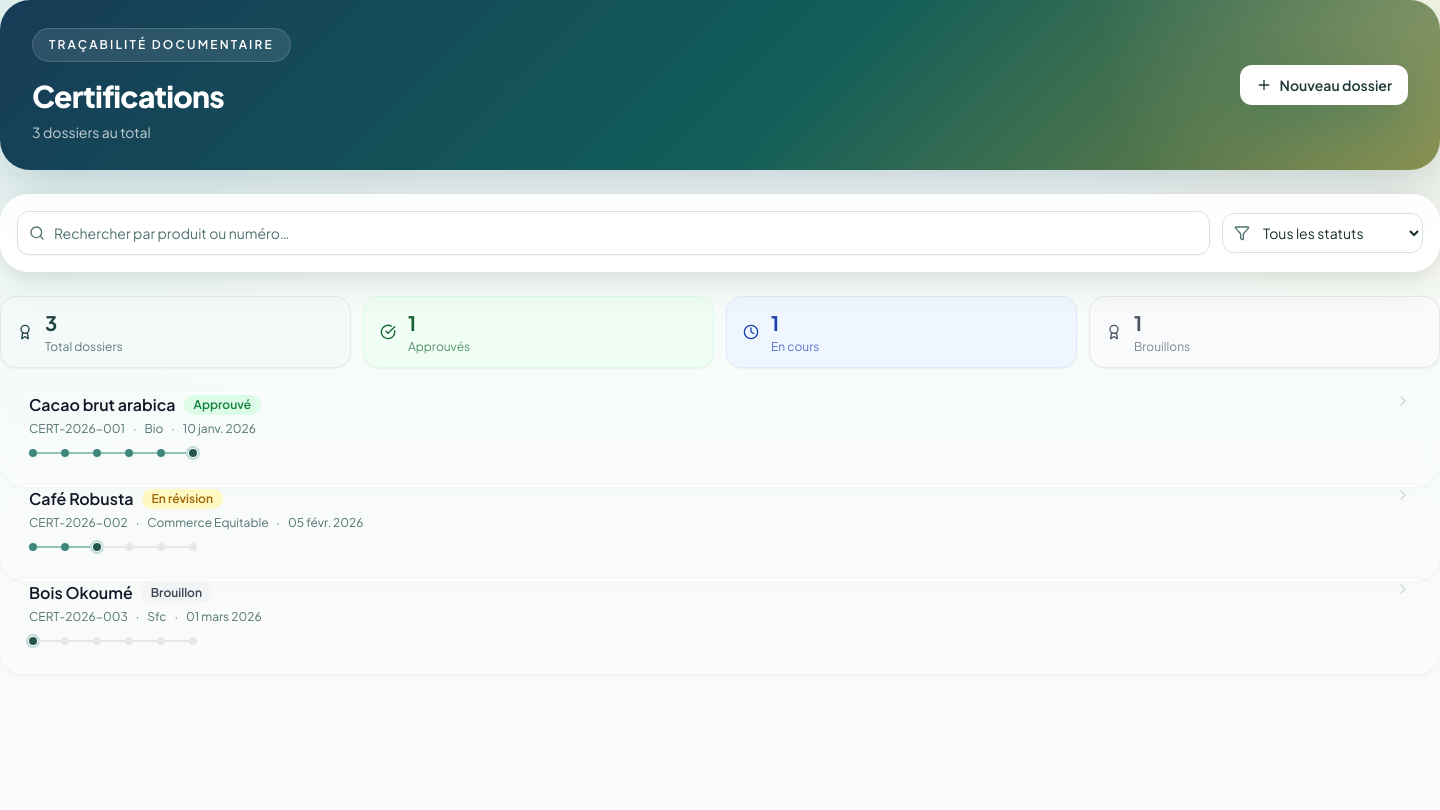
Test case: CertificationListPage — search filter › filters by dossier number
Expected: the text "CERT-2026-001" is shown, [29, 421, 125, 437]
Type "CERT-2026-003" into the field with placeholder "Rechercher par produit ou numéro…". click: (614, 233)
box: [17, 211, 1210, 255]
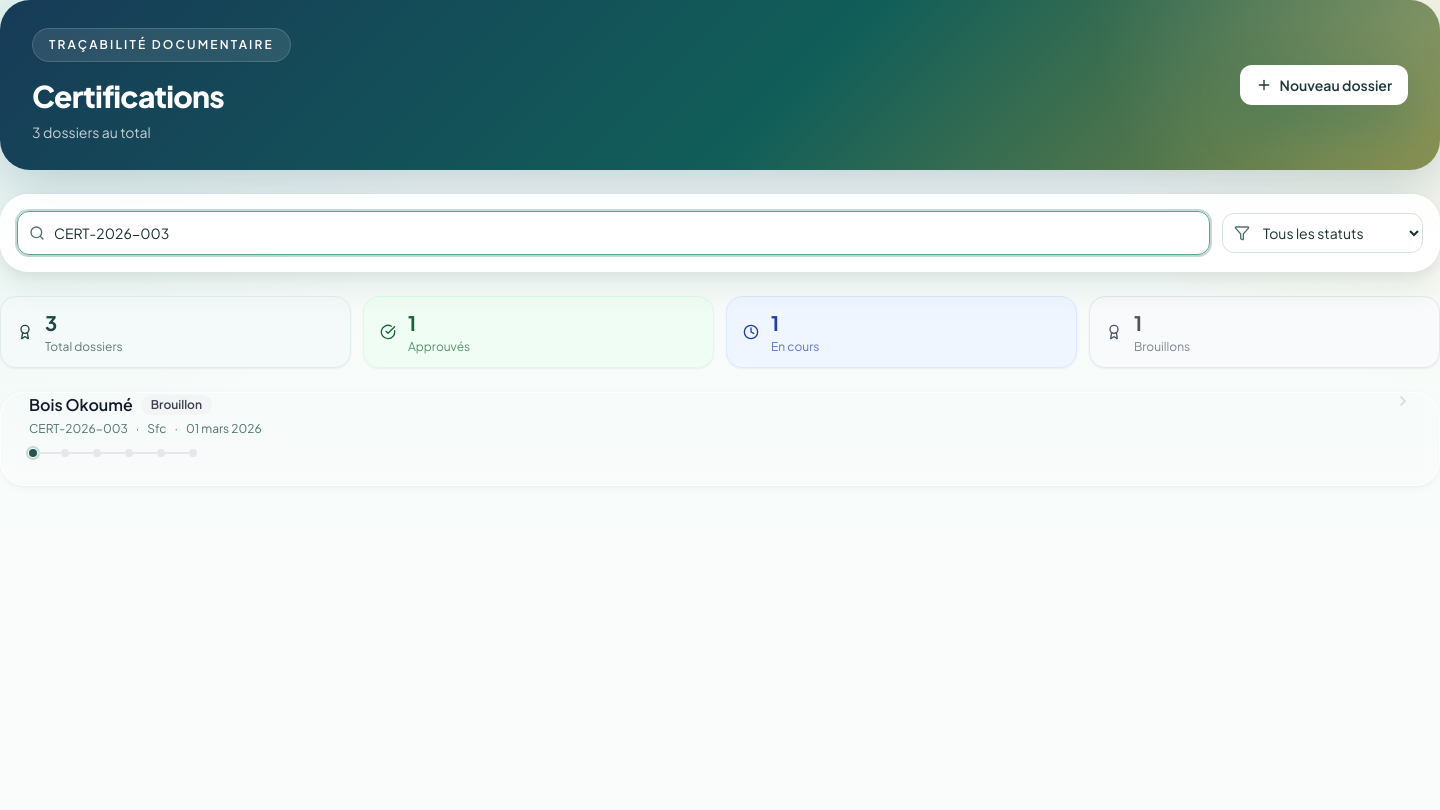
Expected: the text "Bois Okoumé" is shown, [29, 393, 133, 417]
Result: the link "Cacao brut arabica" is gone
